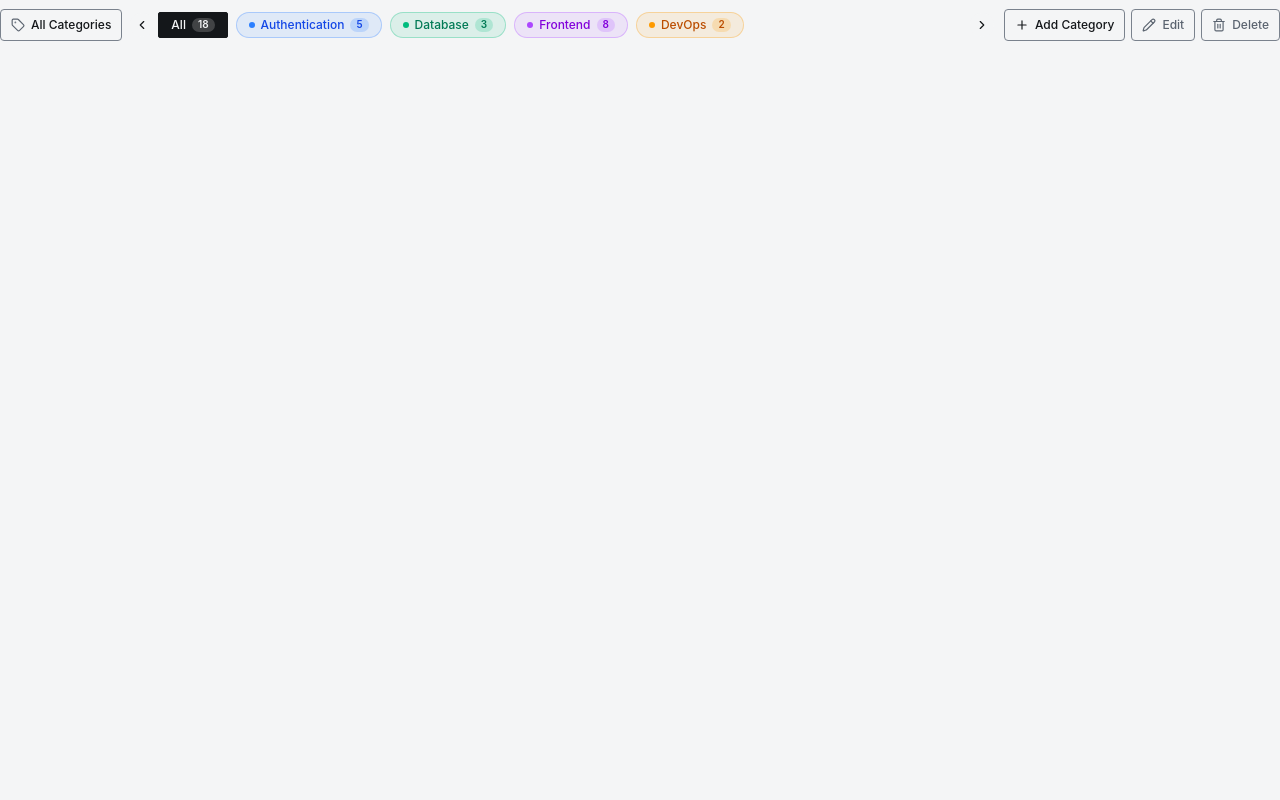
it: ProjectCategoryFilter › opens the popover and displays search input and all categories
Click the button "All Categories" at (61, 25), box [0, 9, 122, 41]
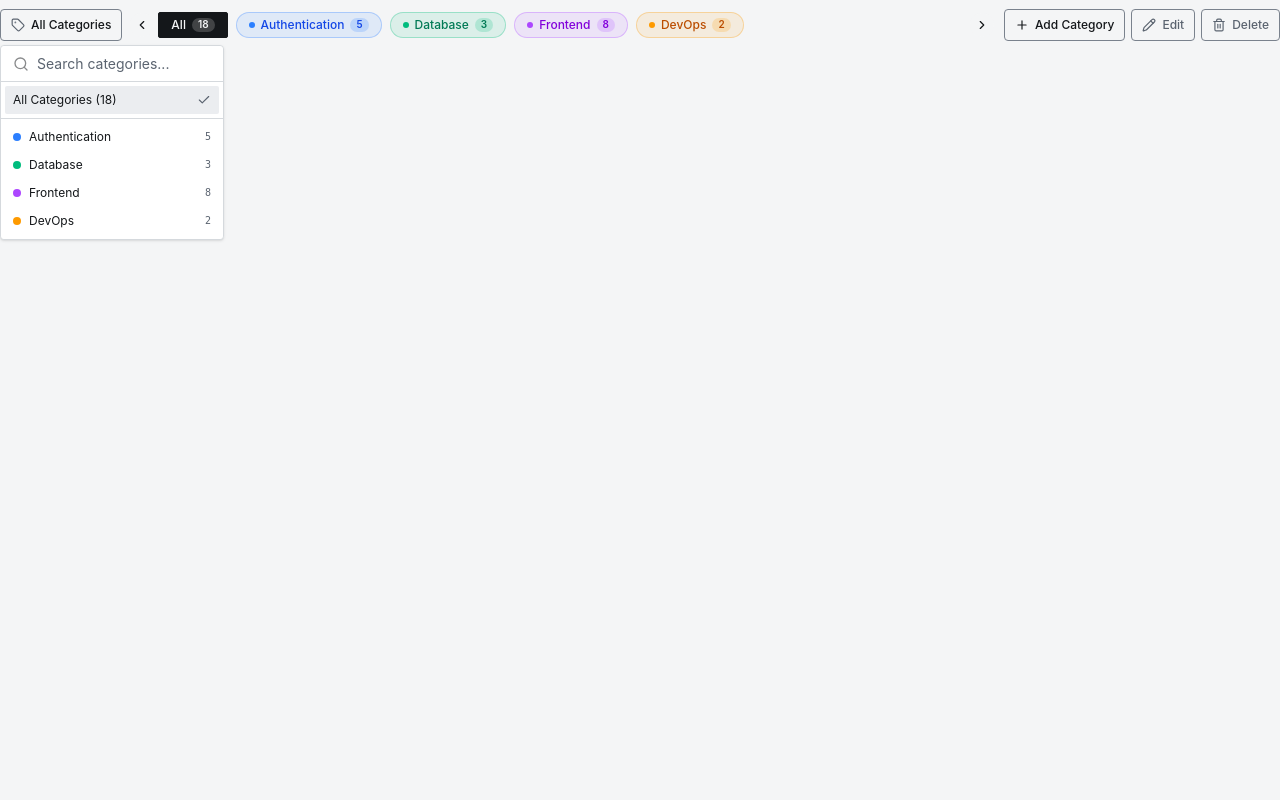
Expected: the option "Authentication 5" is shown, [13, 129, 211, 144]
Expected: the option "DevOps 2" is shown, [13, 213, 211, 228]
